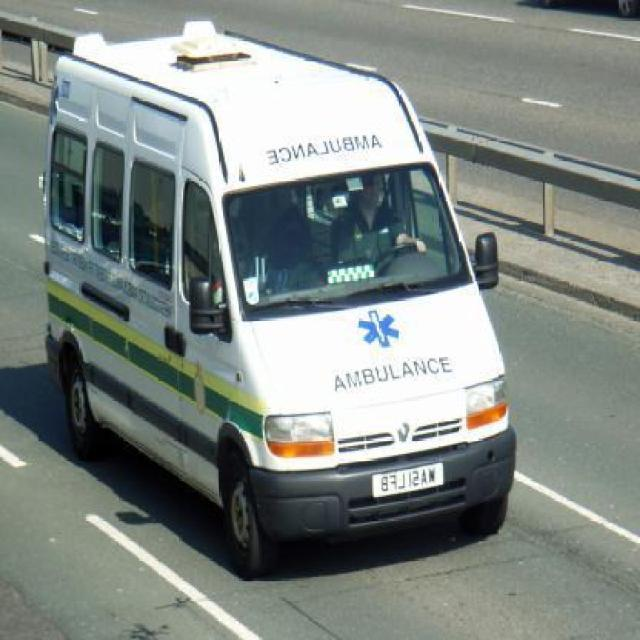emergency: (38, 18, 518, 578)
